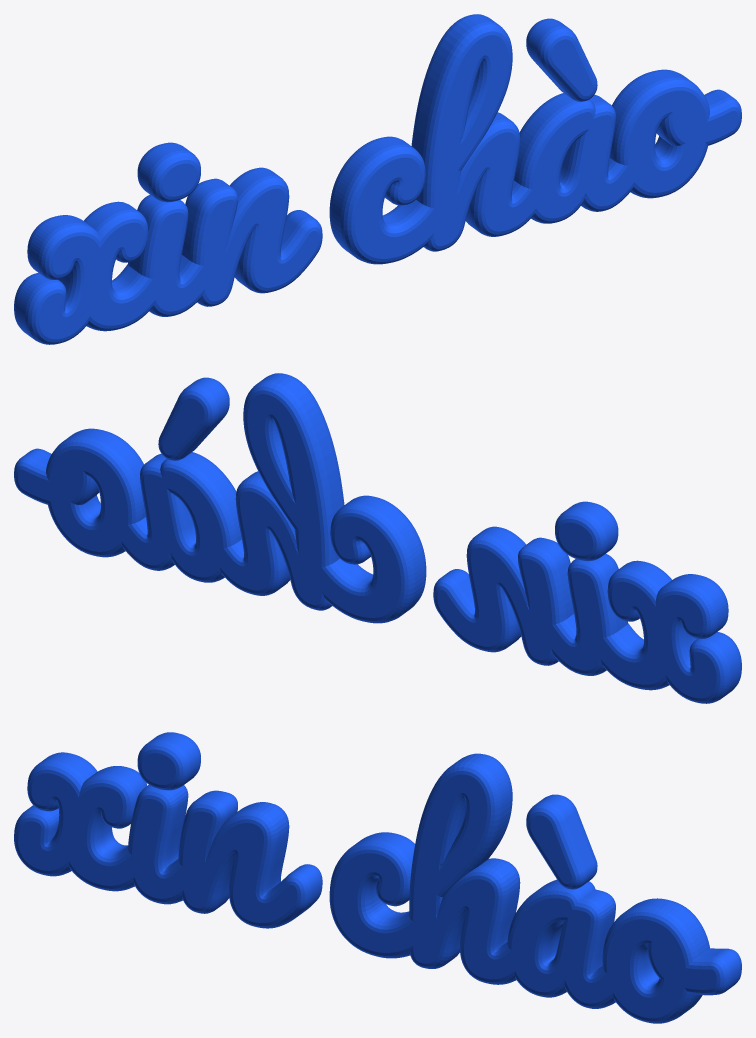
Rendered from hello.gltf.
The picture shows the model from 3 angles, top to bottom: view 1: azimuth 30°, elevation 25°; view 2: azimuth 150°, elevation 25°; view 3: azimuth 330°, elevation 25°; orthographic projection.
Parts seen in each view (by area): view 1: xin_chao; view 2: xin_chao; view 3: xin_chao.
Part boxes in pixels (box(x1,y1,x2,y2)): xin_chao: box(14, 14, 741, 344); xin_chao: box(14, 373, 741, 703); xin_chao: box(14, 732, 741, 1023).
Size of the model in its own units: 0.69 by 0.1993 by 0.0353.
